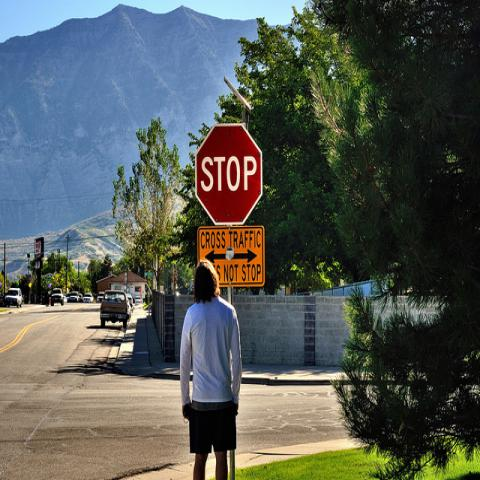car: (4, 288, 23, 308), (50, 288, 64, 306), (134, 284, 142, 300), (82, 292, 94, 302), (70, 291, 80, 302), (126, 293, 133, 308), (96, 291, 103, 302)
truck: (100, 291, 132, 329)
